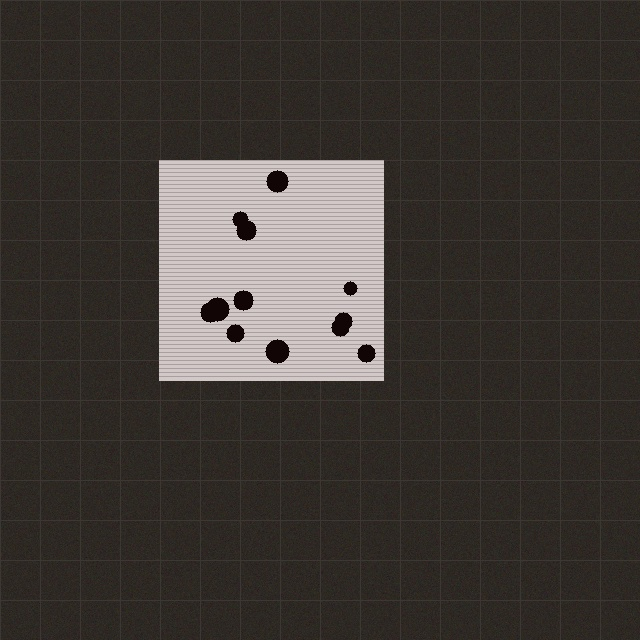over_extrusion: (154, 155, 388, 385)
